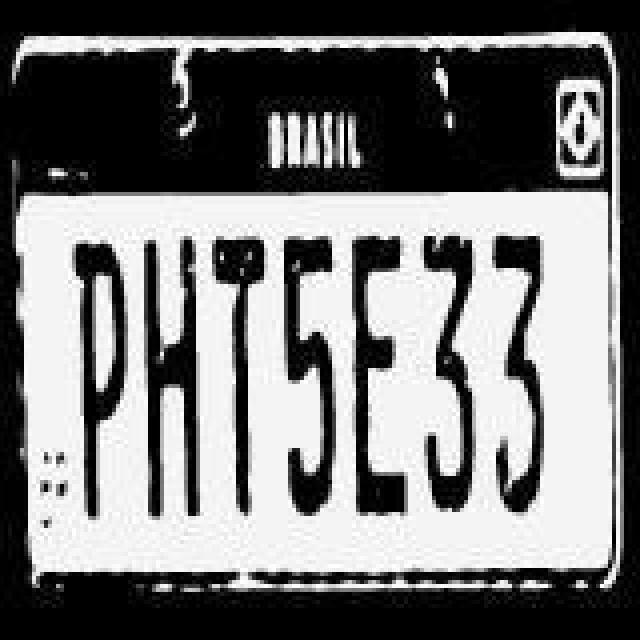3: (492, 232, 548, 520), (420, 236, 476, 516)
5: (284, 234, 340, 518)
E: (352, 234, 408, 518)
H: (140, 234, 204, 518)
P: (70, 238, 130, 522)
T: (212, 236, 268, 516)
